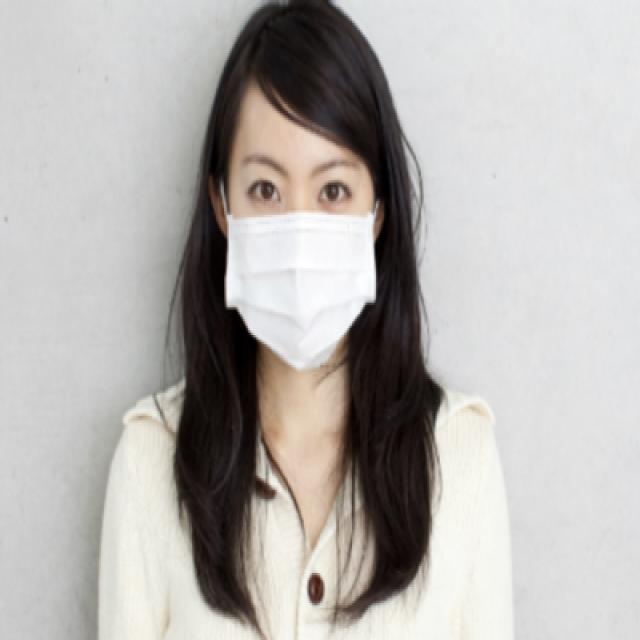with_mask: (226, 152, 376, 368)
